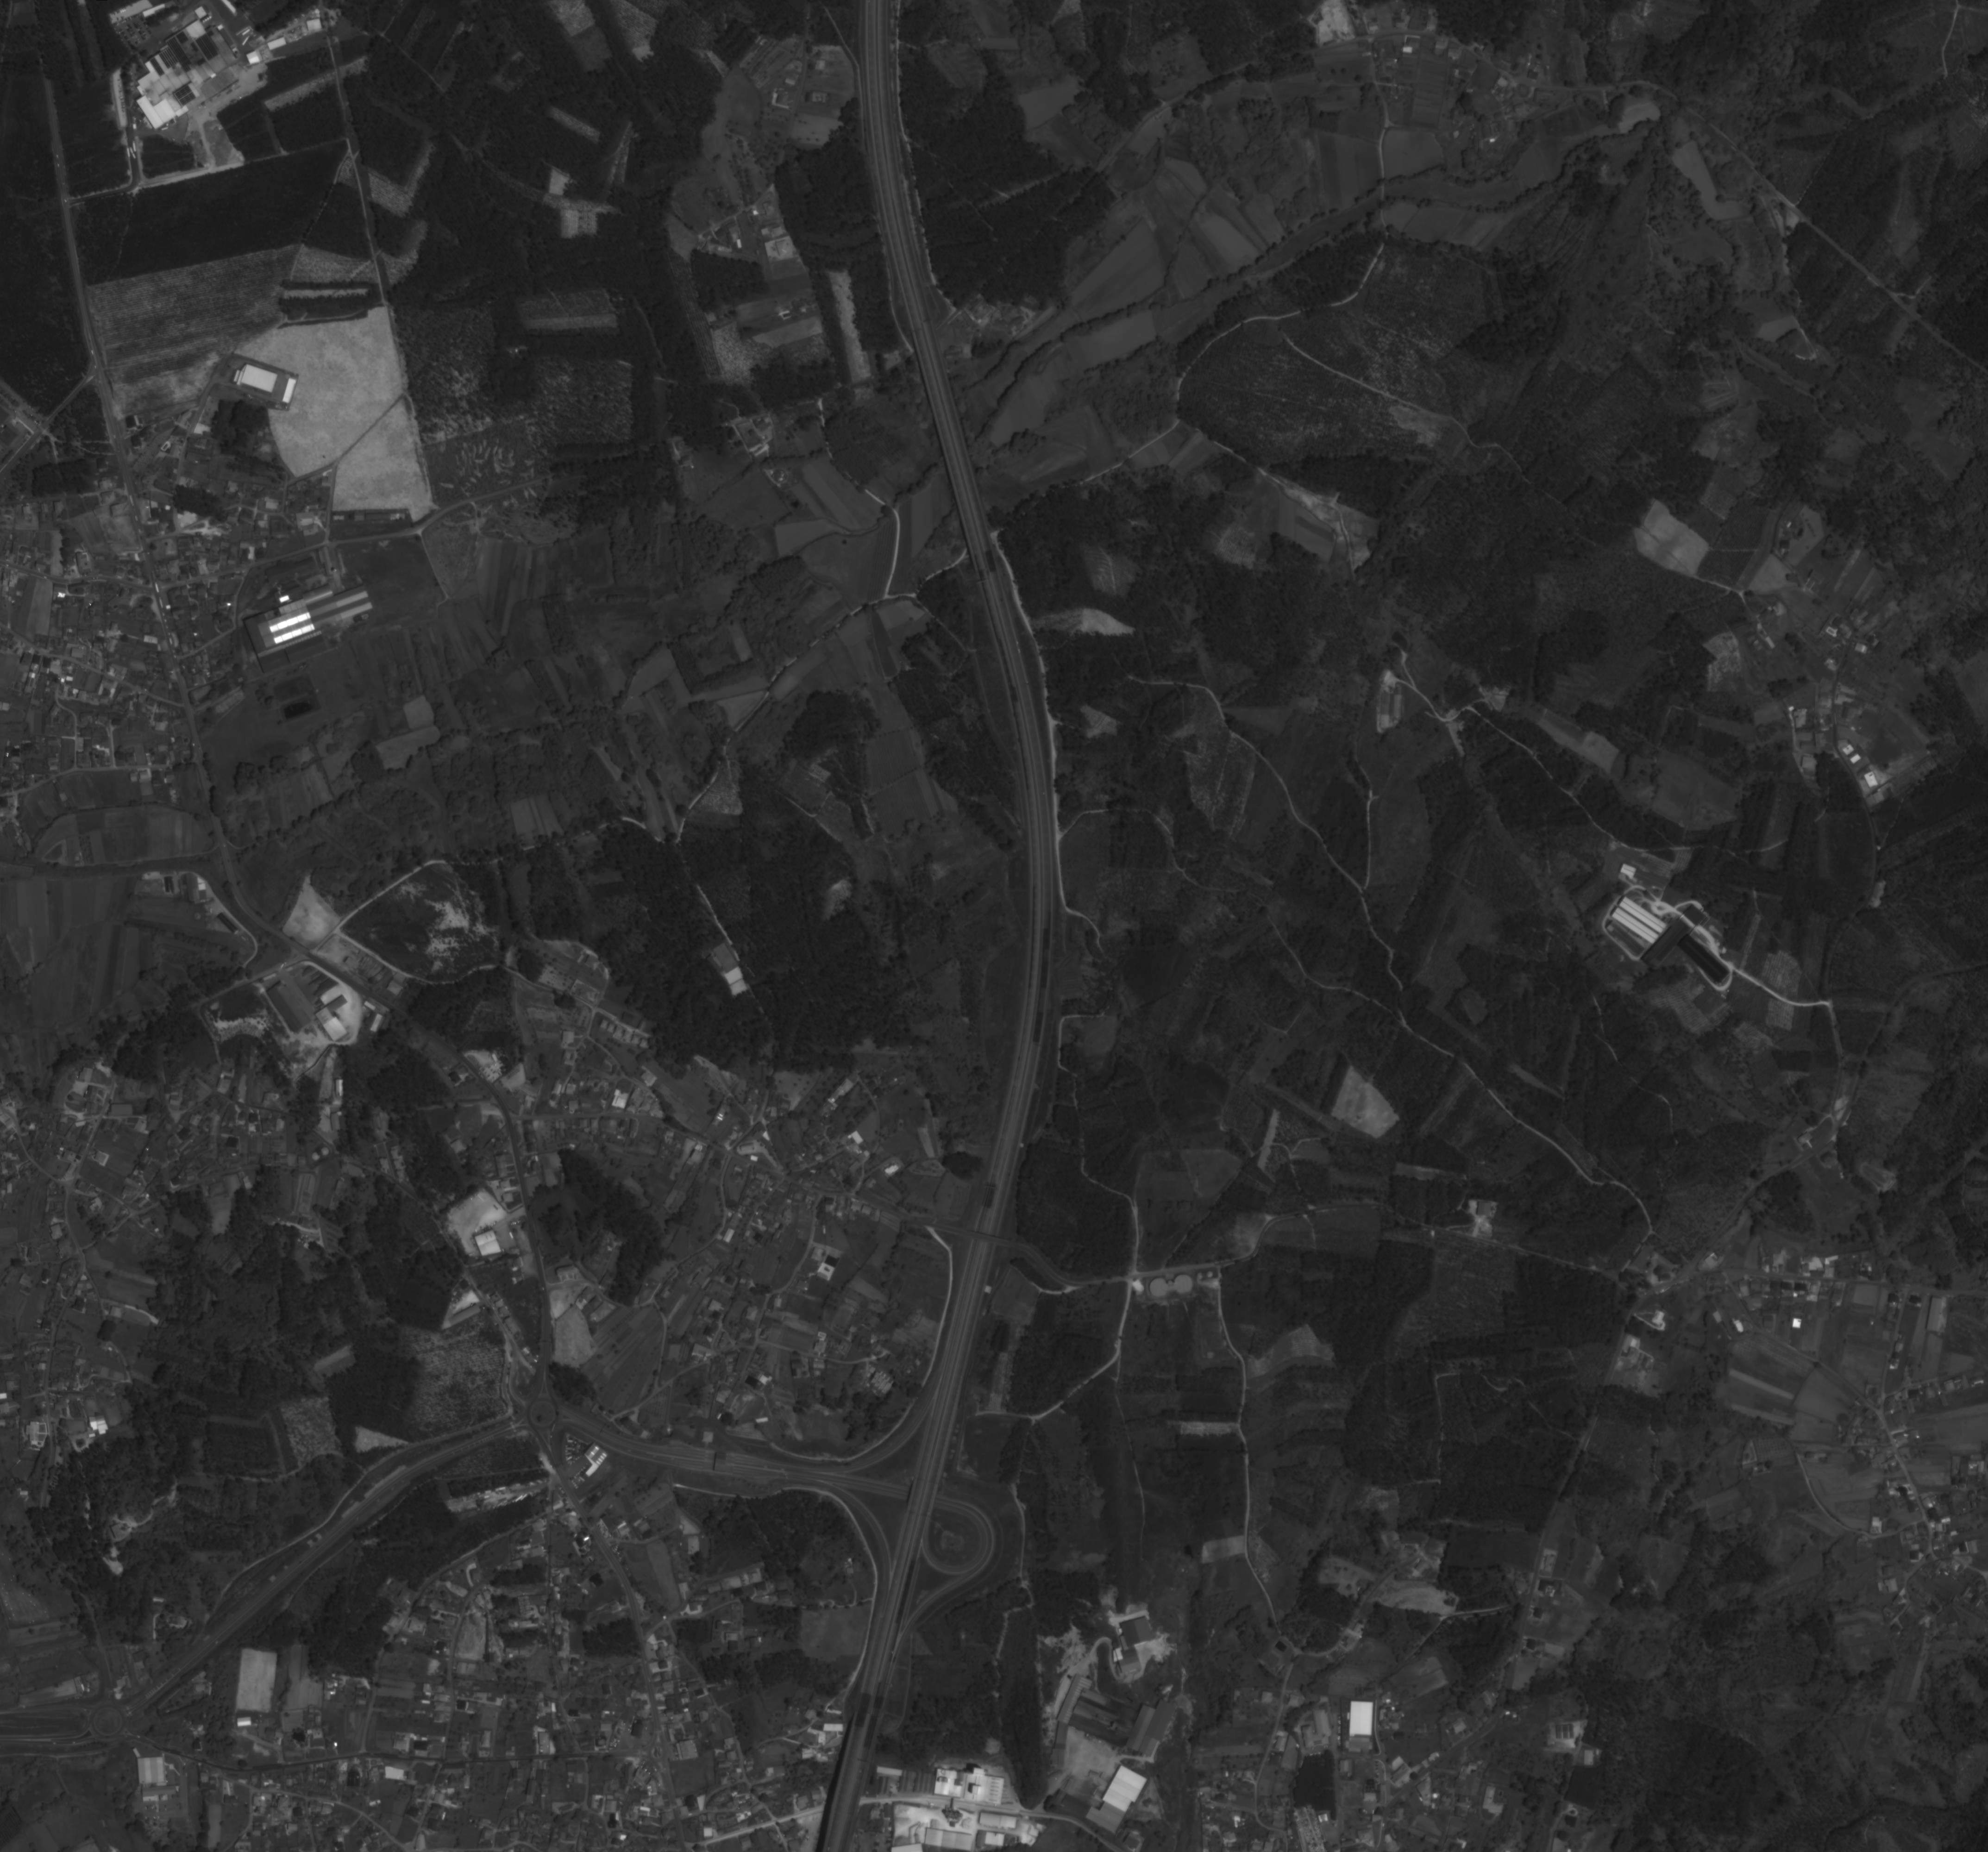roundabout: (91, 1706, 125, 1739), (527, 1398, 559, 1429), (649, 1746, 667, 1760)
storage tank: (1172, 1274, 1196, 1297), (1149, 1278, 1170, 1298)
